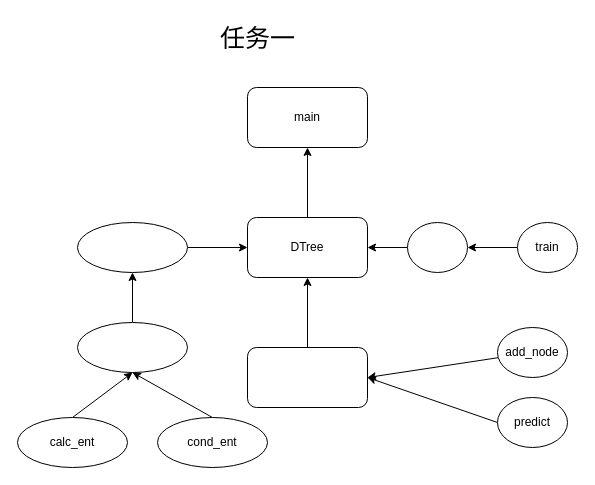
This 595x485 diagram has some shape labels left out. The centre of each missing label's shape, as x and y in pixels:
fit: the point at 437,247
info_gain: the point at 132,347
info_gain_train: the point at 132,247
Node: the point at 307,377
